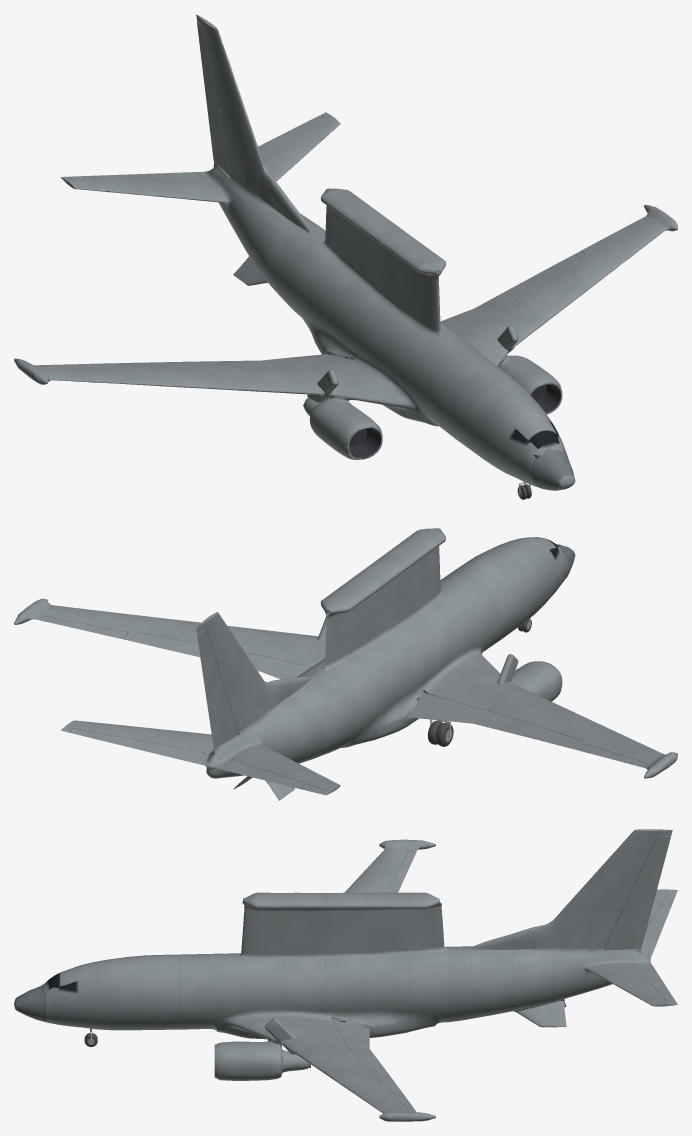
3 renders of one model, top to bottom at view 1: azimuth 30°, elevation 25°; view 2: azimuth 150°, elevation 25°; view 3: azimuth 270°, elevation 25°, orthographic. The views are drawn at different scales.
Parts seen in each view (by area): view 1: airframe, fsim:flaps (×2), fsim:rudder, fsim:elevator; view 2: airframe, fsim:flaps (×2), fsim:rudder, fsim:elevator (×2), fsim:aileron (×2), fsim:wheel:2:0.565; view 3: airframe, fsim:rudder, fsim:elevator (×2), fsim:flaps.
Boxes of the visible parts, x1,y1,x2,y2 form: airframe: (14, 14, 677, 490); fsim:flaps (×2): (129, 254, 581, 366); fsim:rudder: (197, 22, 230, 176); fsim:elevator: (68, 172, 205, 179); airframe: (14, 528, 677, 800); fsim:flaps (×2): (129, 632, 581, 749); fsim:rudder: (197, 629, 238, 748); fsim:elevator (×2): (68, 728, 324, 793); fsim:aileron (×2): (39, 616, 646, 767); fsim:wheel:2:0.565: (427, 720, 453, 746); airframe: (14, 829, 677, 1121); fsim:rudder: (604, 836, 670, 950); fsim:elevator (×2): (632, 893, 676, 1002); fsim:flaps: (331, 1020, 397, 1085).
Size of the model in its own units: 34.56 by 12.59 by 35.09.
Materials: 6 (1 with a texture image).
